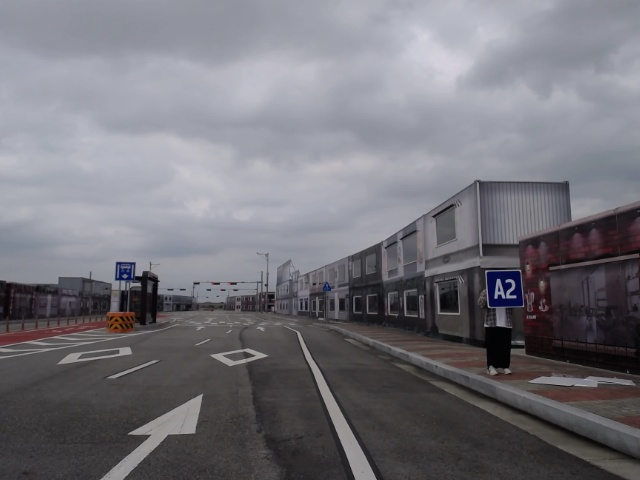delivery_a2: (486, 271, 525, 308)
